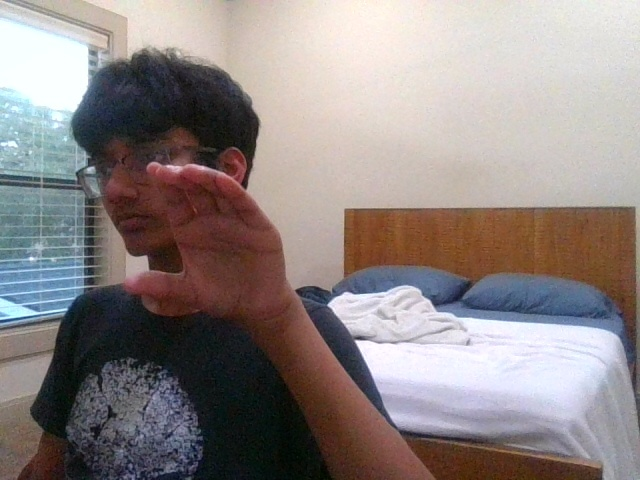no: (125, 162, 288, 313)
